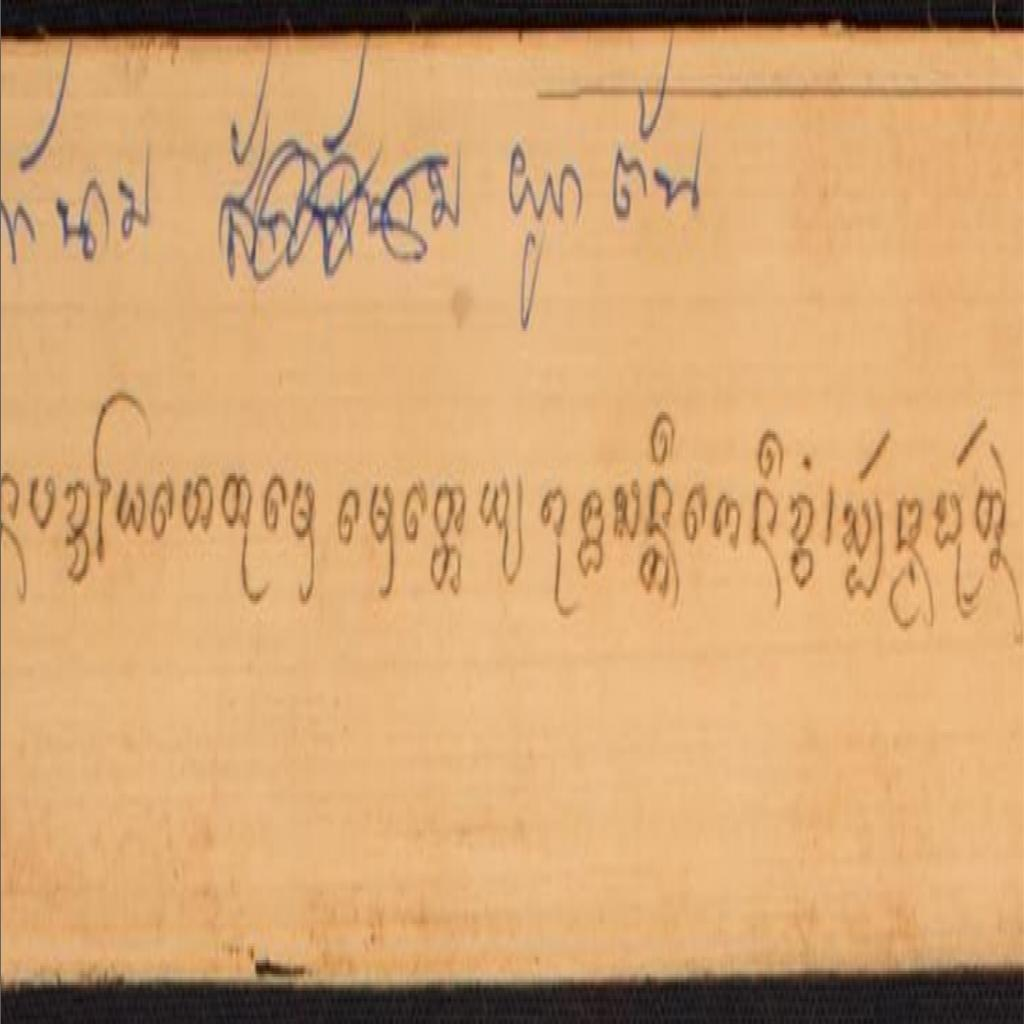LN006: (790, 489, 817, 551)
